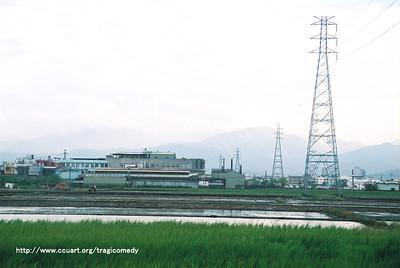power_tower: (301, 12, 345, 200), (267, 121, 291, 182)
